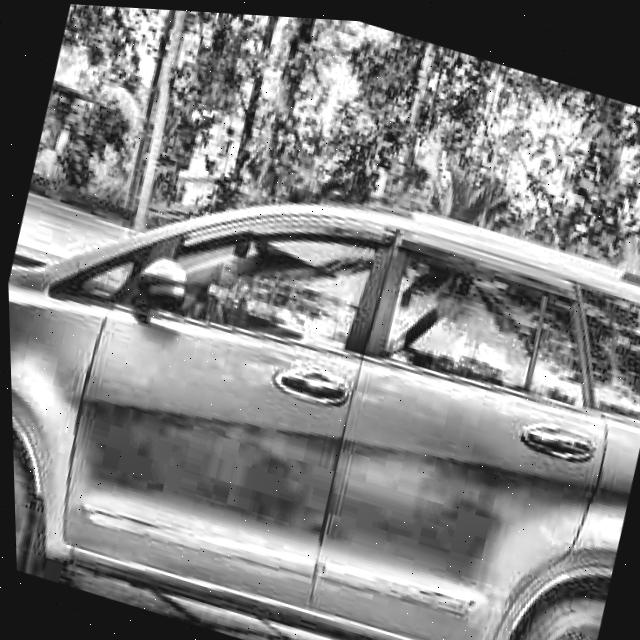light_vehicle: (2, 89, 640, 640)
